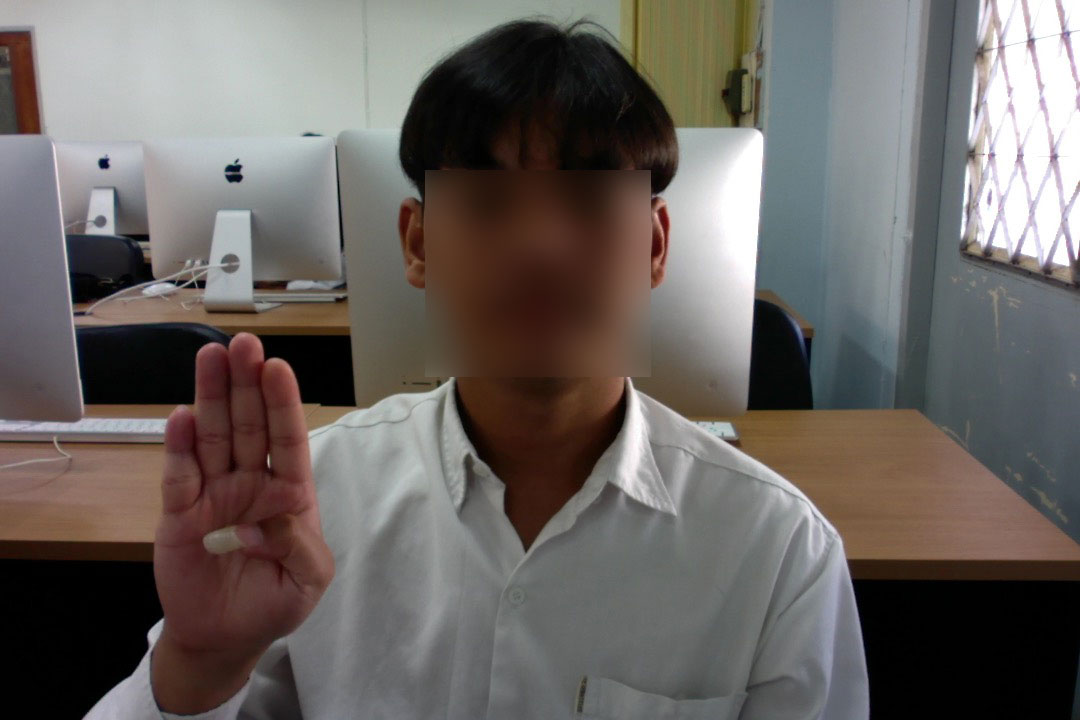bor: (147, 326, 341, 657)
